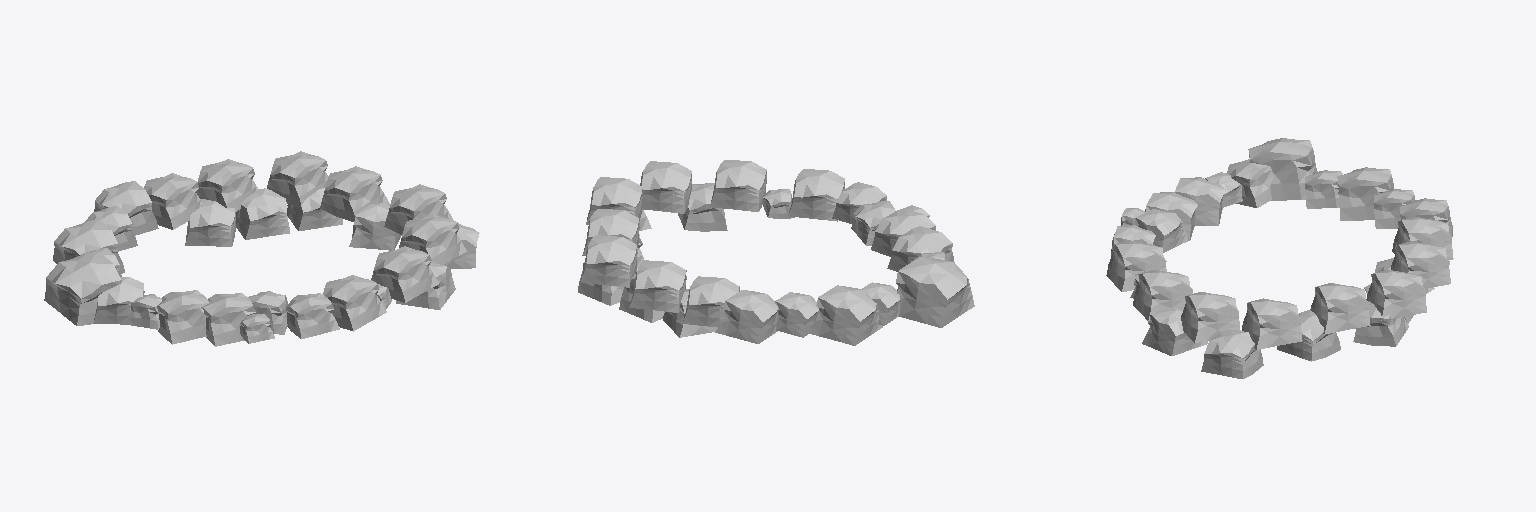
Rendered from Fogata_Piedra.obj.
3 renders of one model, left to right at view 1: azimuth 30°, elevation 25°; view 2: azimuth 150°, elevation 25°; view 3: azimuth 270°, elevation 25°, orthographic.
Visible parts, largest first — view 1: Cube.043; view 2: Cube.043; view 3: Cube.043.
Part boxes in pixels (x1,y1,x2,y2): Cube.043: (44, 151, 479, 346); Cube.043: (578, 160, 974, 345); Cube.043: (1106, 138, 1453, 378).
Bounding box in the file's own units: 3.01 × 0.4774 × 2.26.